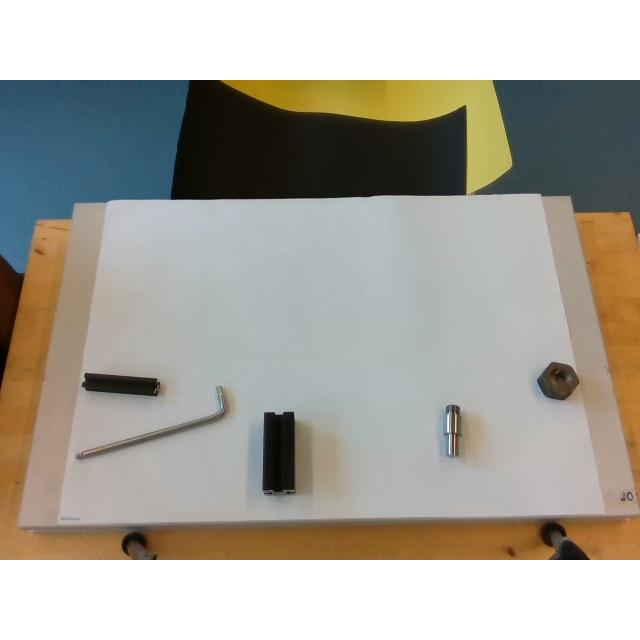AllenKey: (75, 386, 227, 458)
Axis2: (444, 404, 461, 456)
F20_20_B: (82, 372, 158, 396)
M30: (538, 362, 578, 400)
S40_40_B: (262, 412, 294, 492)
